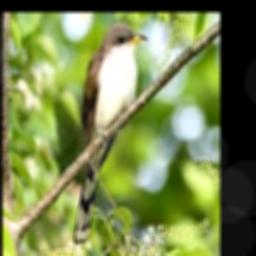Cuckoo: (74, 24, 148, 244)
